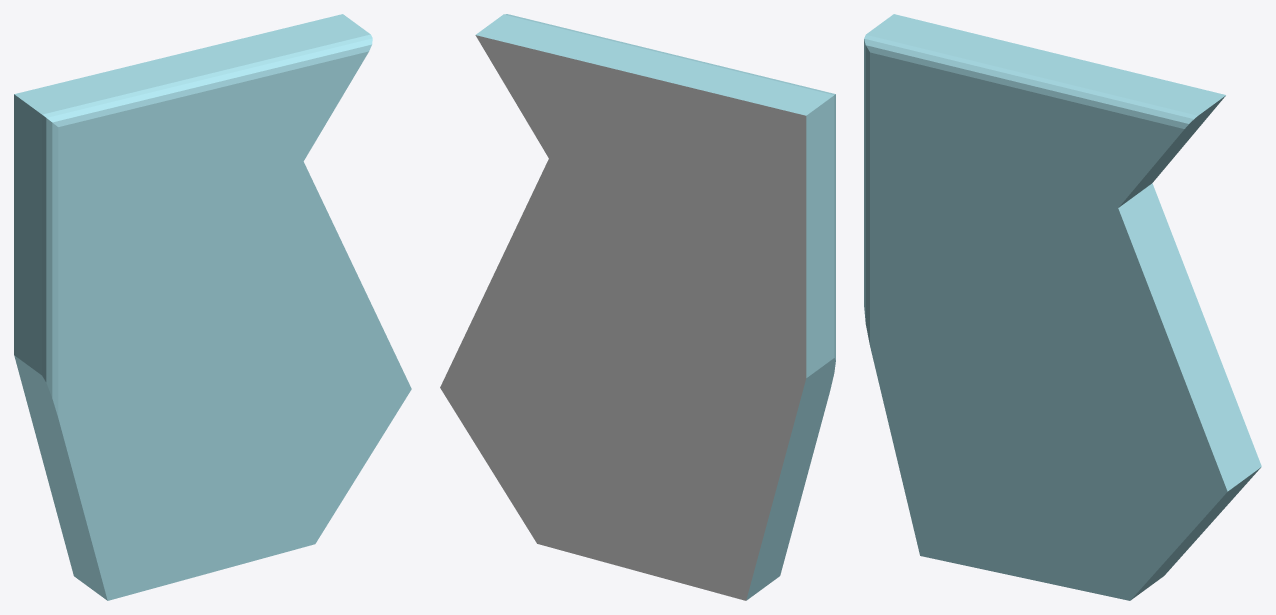
File: chrome3.glb
The picture shows the model from 3 angles, left to right: view 1: azimuth 30°, elevation 25°; view 2: azimuth 150°, elevation 25°; view 3: azimuth 330°, elevation 25°; orthographic projection.
Visible parts, largest first — view 1: Plane.002; view 2: Plane.002; view 3: Plane.002.
Part boxes in pixels (box(x1,y1,x2,y2)): Plane.002: box(14, 14, 411, 600); Plane.002: box(440, 14, 835, 600); Plane.002: box(864, 14, 1261, 600).
Bounding box in the file's own units: 31.01 × 40.44 × 5.
